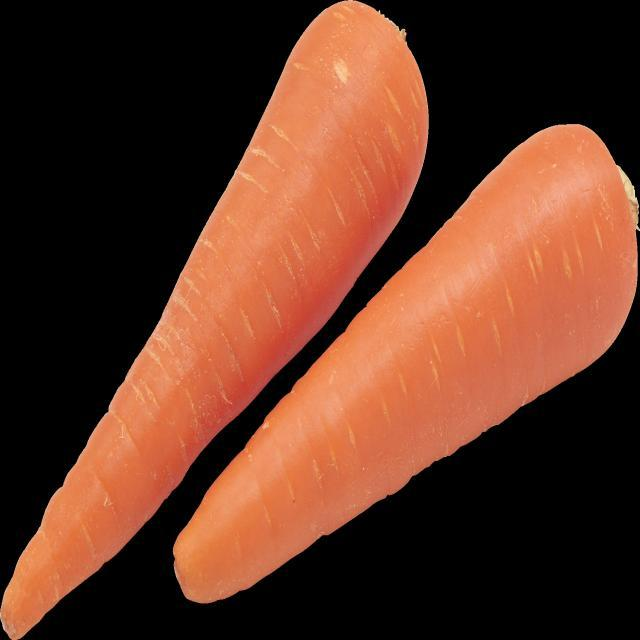carrot: (1, 4, 435, 640), (175, 120, 637, 602)
